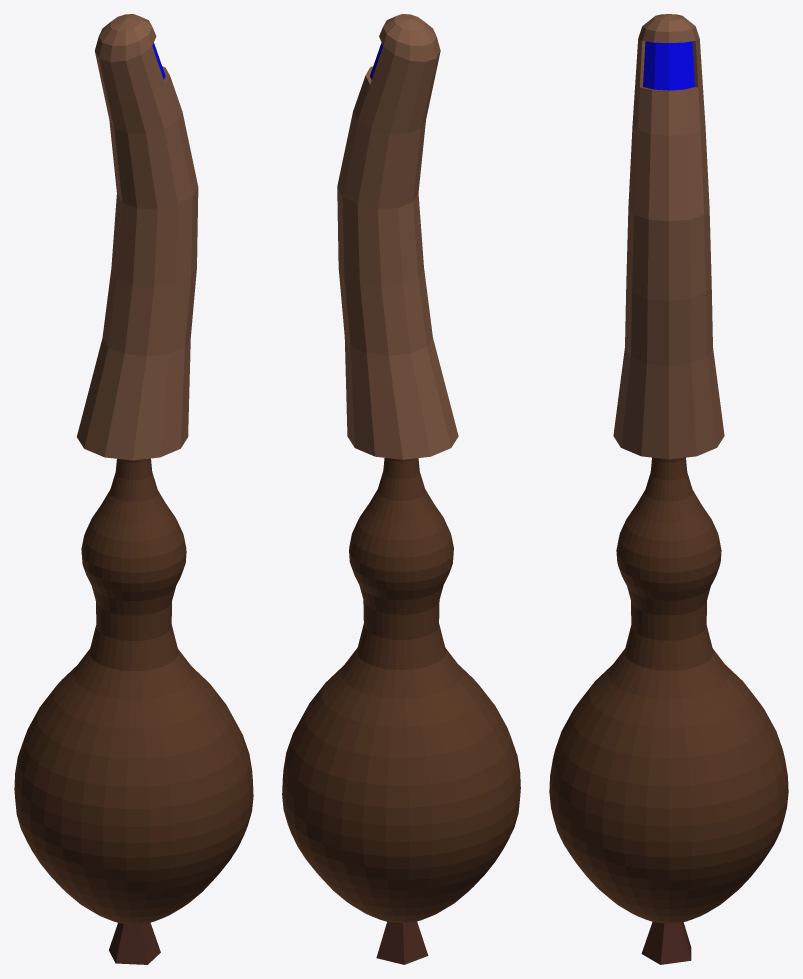
Rendered from Wand 648.glb.
3 renders of one model, left to right at view 1: azimuth 30°, elevation 25°; view 2: azimuth 150°, elevation 25°; view 3: azimuth 270°, elevation 25°, orthographic.
Visible parts, largest first — view 1: GeneratedWand; view 2: GeneratedWand; view 3: GeneratedWand.
Part boxes in pixels (left/top/right/bottom): GeneratedWand: left=14, top=14, right=253, bottom=964; GeneratedWand: left=282, top=14, right=520, bottom=964; GeneratedWand: left=549, top=14, right=788, bottom=964.
Size of the model in its own units: 0.123 by 0.5308 by 0.123.
